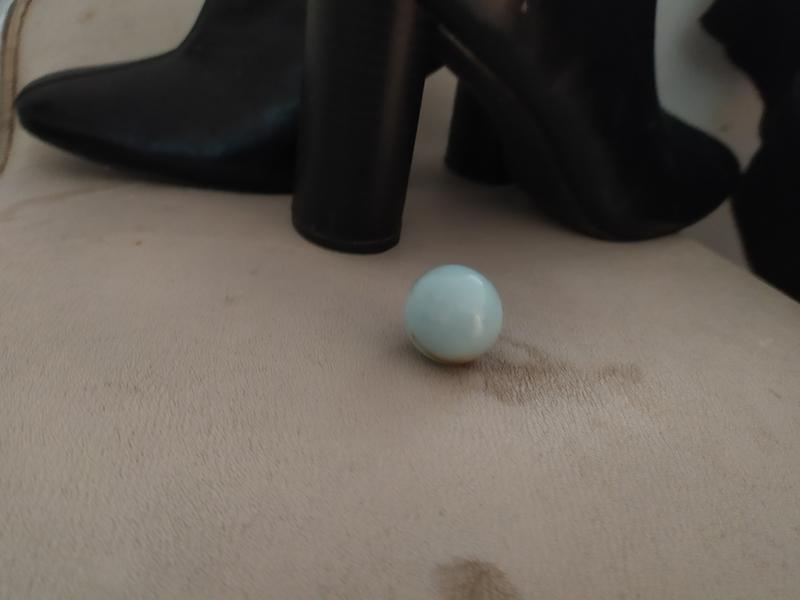Warning: (400, 262, 508, 369)
